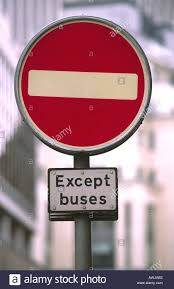No_entry: (15, 15, 152, 155)
